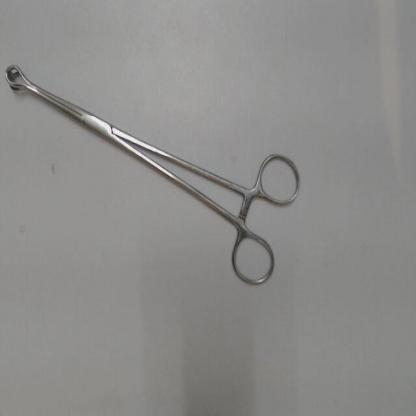8 Babcock Tissue Forceps: (0, 57, 311, 294)
